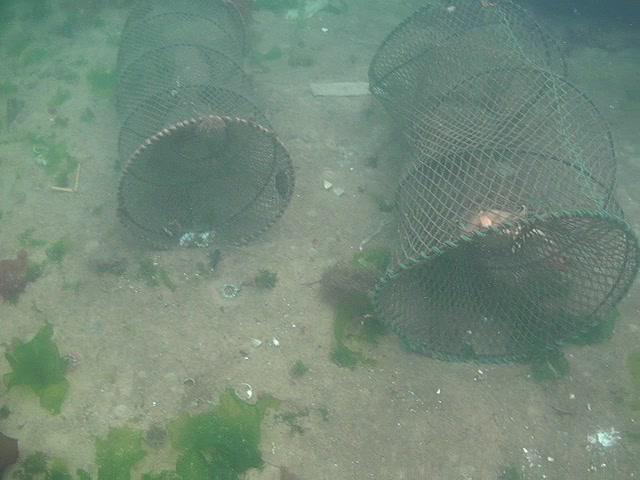spring fish trap: (365, 1, 640, 364), (109, 0, 295, 253)
